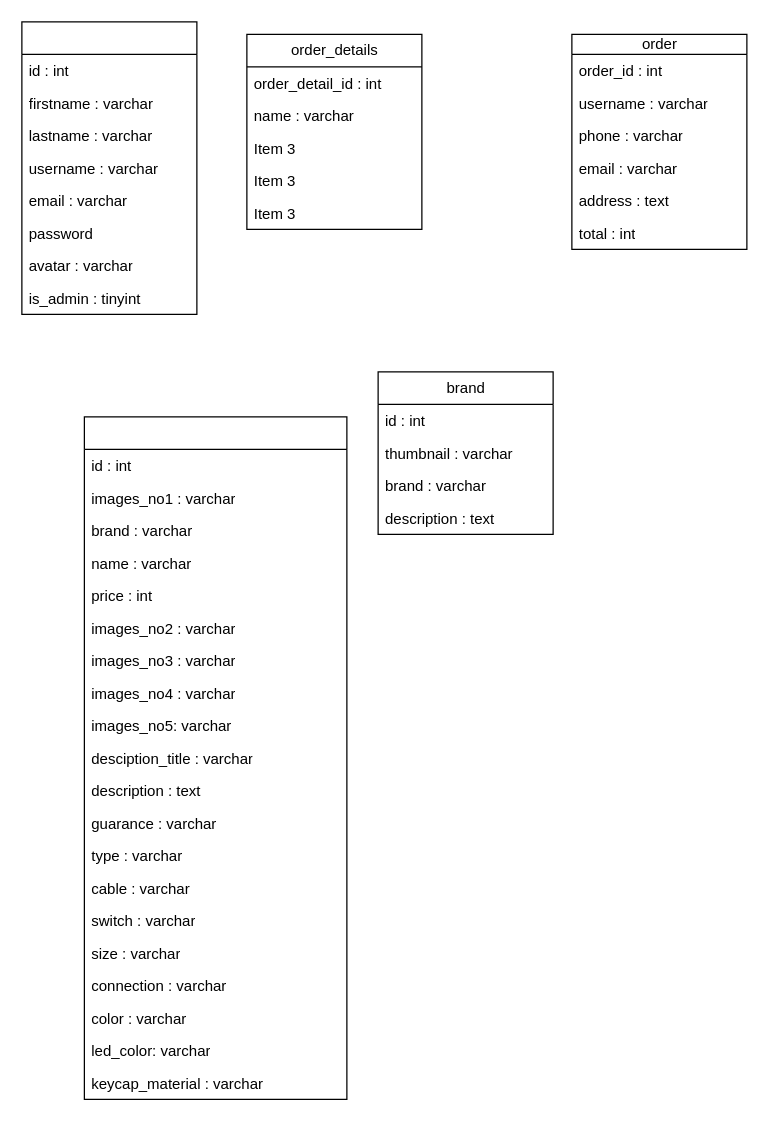
The diagram is 769 pixels wide and 1125 high, and some of its shapes have lost their labels. The box of each missing label's shape, as (x1, y1, x2, y2) in pixels:
products: (83, 416, 347, 1099)
users: (21, 21, 197, 314)
